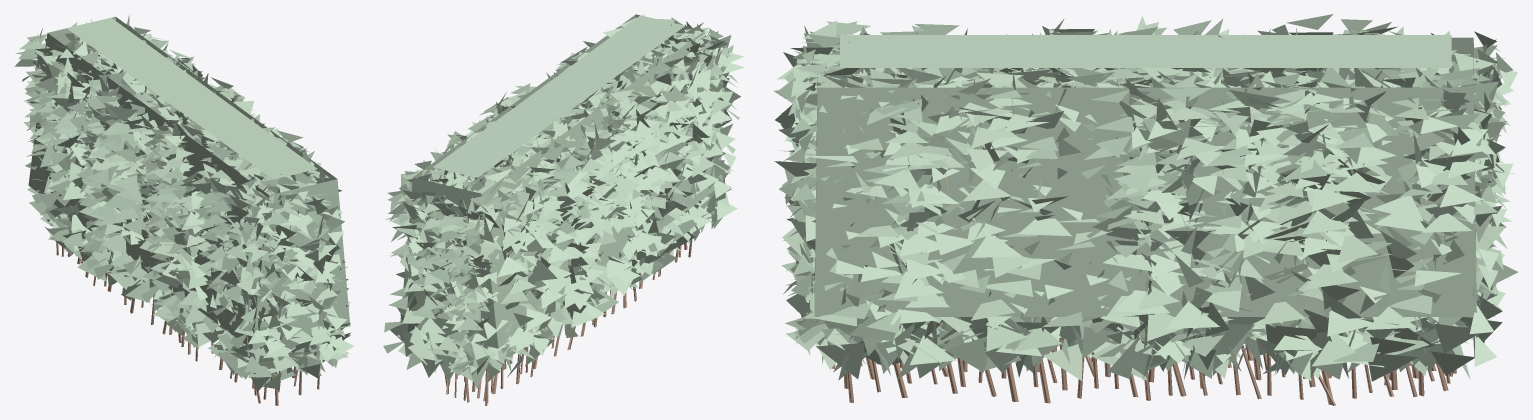
File: [foliage] Bush decorative.fbx
3 renders of one model, left to right at view 1: azimuth 30°, elevation 25°; view 2: azimuth 150°, elevation 25°; view 3: azimuth 270°, elevation 25°, orthographic. The views are drawn at different scales.
Visible parts, largest first — view 1: Bush decorative_LOD0, Bush decorative_GIPROXY; view 2: Bush decorative_LOD0, Bush decorative_GIPROXY; view 3: Bush decorative_LOD0, Bush decorative_GIPROXY.
Part boxes in pixels (x1,y1,x2,y2): Bush decorative_LOD0: (14,14,354,405); Bush decorative_GIPROXY: (28,16,350,349); Bush decorative_LOD0: (383,14,744,405); Bush decorative_GIPROXY: (400,14,722,348); Bush decorative_LOD0: (774,14,1518,405); Bush decorative_GIPROXY: (814,35,1476,316).
Size of what is drawn, in the model's own units: 111 by 155 by 312.
